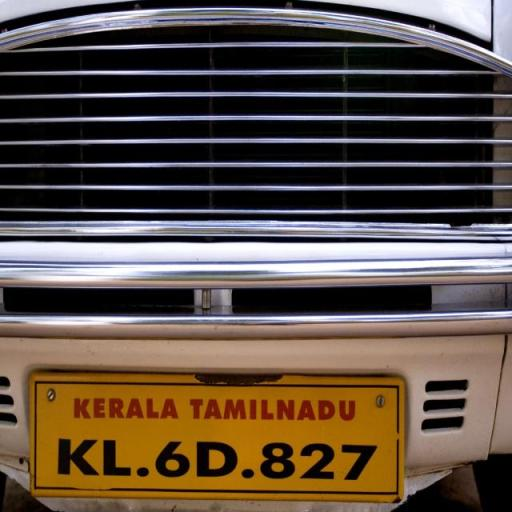number plate: (30, 373, 408, 505)
